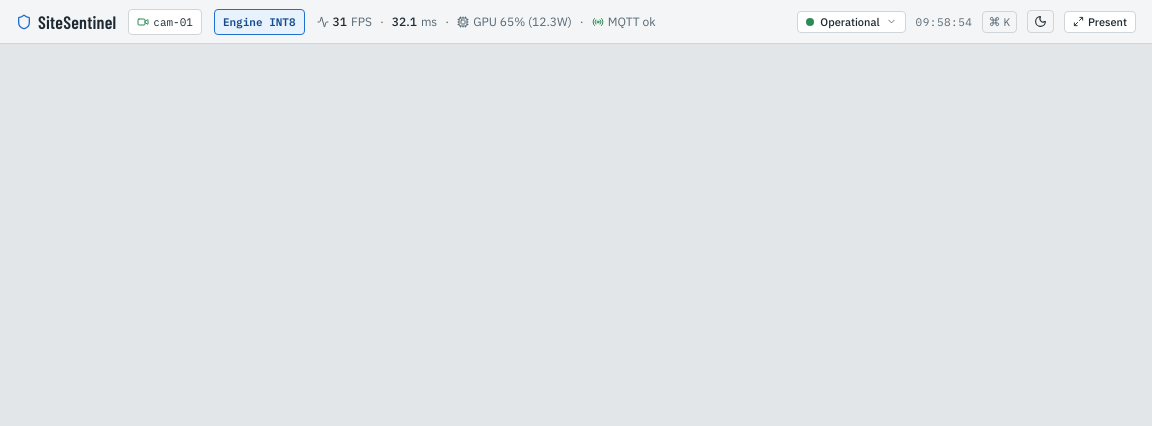
Test: HealthBar Component › expands component list on status dot click and displays heartbeats
# Click to expand
Click the button with test id "health-status-dropdown-btn" at [851, 22], box [797, 10, 906, 32]
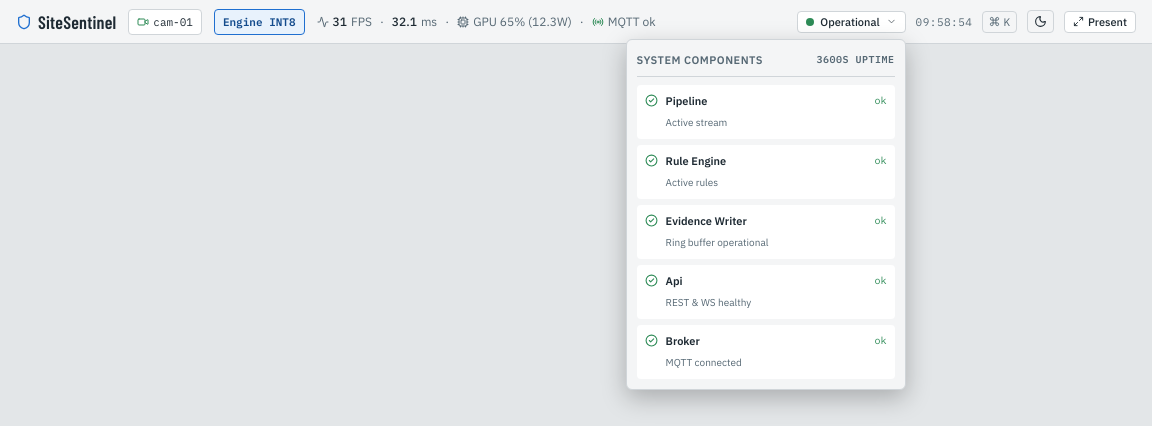
Check: the text "System Components" is shown, box [637, 50, 763, 70]
Check: the text "pipeline" is shown, box [666, 90, 707, 110]
Check: the text "rule engine" is shown, box [666, 150, 726, 170]
